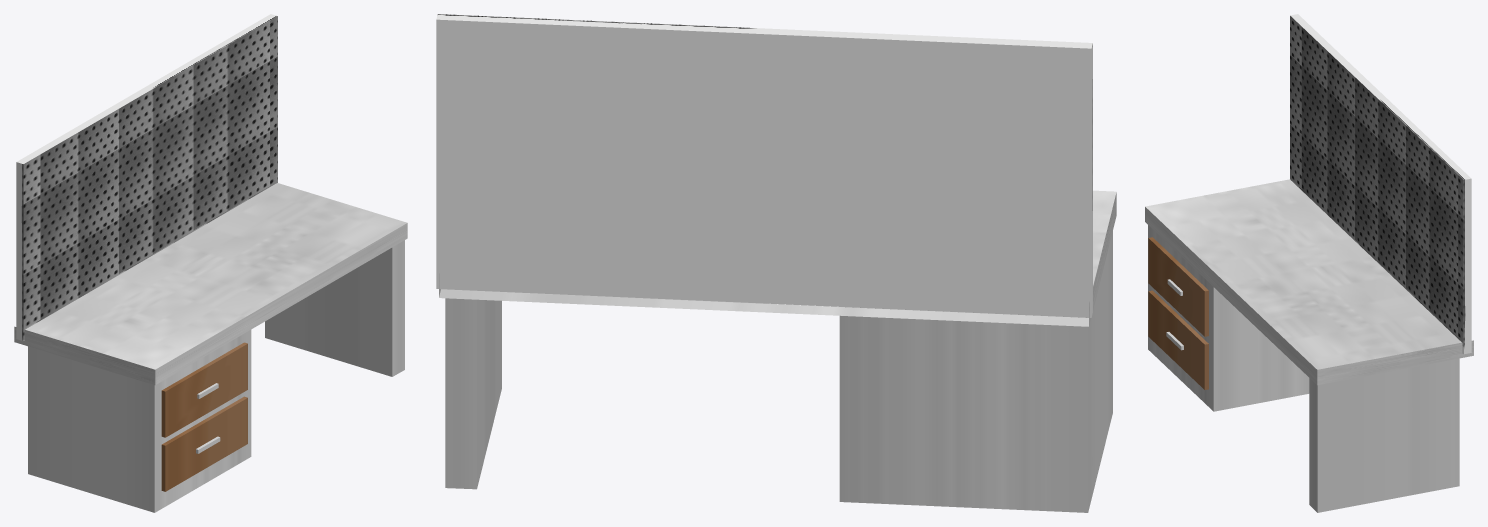
The model's file is bureau.glb.
The picture shows the model from 3 angles, left to right: view 1: azimuth 30°, elevation 25°; view 2: azimuth 150°, elevation 25°; view 3: azimuth 270°, elevation 25°; orthographic projection. The views are drawn at different scales.
Parts seen in each view (by area): view 1: Cube.004, Cube.011, Cube.007, Cube.008; view 2: Cube.011, Cube.004; view 3: Cube.004, Cube.011, Cube.007, Cube.008.
Boxes of the visible parts, left/top/right/bottom form: Cube.004: left=14, top=183, right=407, bottom=512; Cube.011: left=16, top=14, right=277, bottom=341; Cube.007: left=161, top=342, right=247, bottom=437; Cube.008: left=161, top=396, right=247, bottom=491; Cube.011: left=436, top=14, right=1092, bottom=317; Cube.004: left=439, top=190, right=1116, bottom=512; Cube.004: left=1145, top=179, right=1473, bottom=512; Cube.011: left=1290, top=14, right=1471, bottom=354; Cube.007: left=1148, top=237, right=1208, bottom=336; Cube.008: left=1148, top=290, right=1208, bottom=389.
Size of the model in its own units: 0.1889 by 0.1405 by 0.1361.
3 materials, 3 textured.
